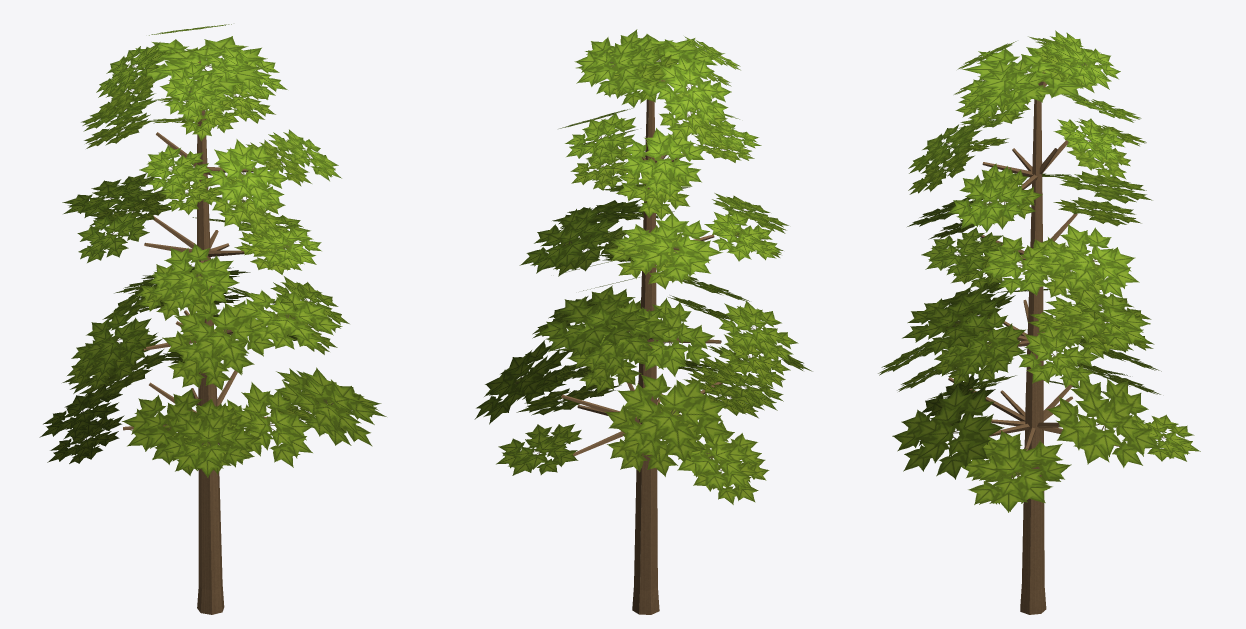
File: maple2_b.glb
The picture shows the model from 3 angles, left to right: view 1: azimuth 30°, elevation 25°; view 2: azimuth 150°, elevation 25°; view 3: azimuth 270°, elevation 25°; orthographic projection. The views are drawn at different scales.
Visible parts, largest first — view 1: maple2_b; view 2: maple2_b; view 3: maple2_b.
Part boxes in pixels (bbox=[...]): maple2_b: bbox=[39, 24, 386, 614]; maple2_b: bbox=[474, 29, 812, 614]; maple2_b: bbox=[878, 30, 1200, 614].
Size of the model in its own units: 4.36 by 7.45 by 4.45.
2 materials, 2 textured.
